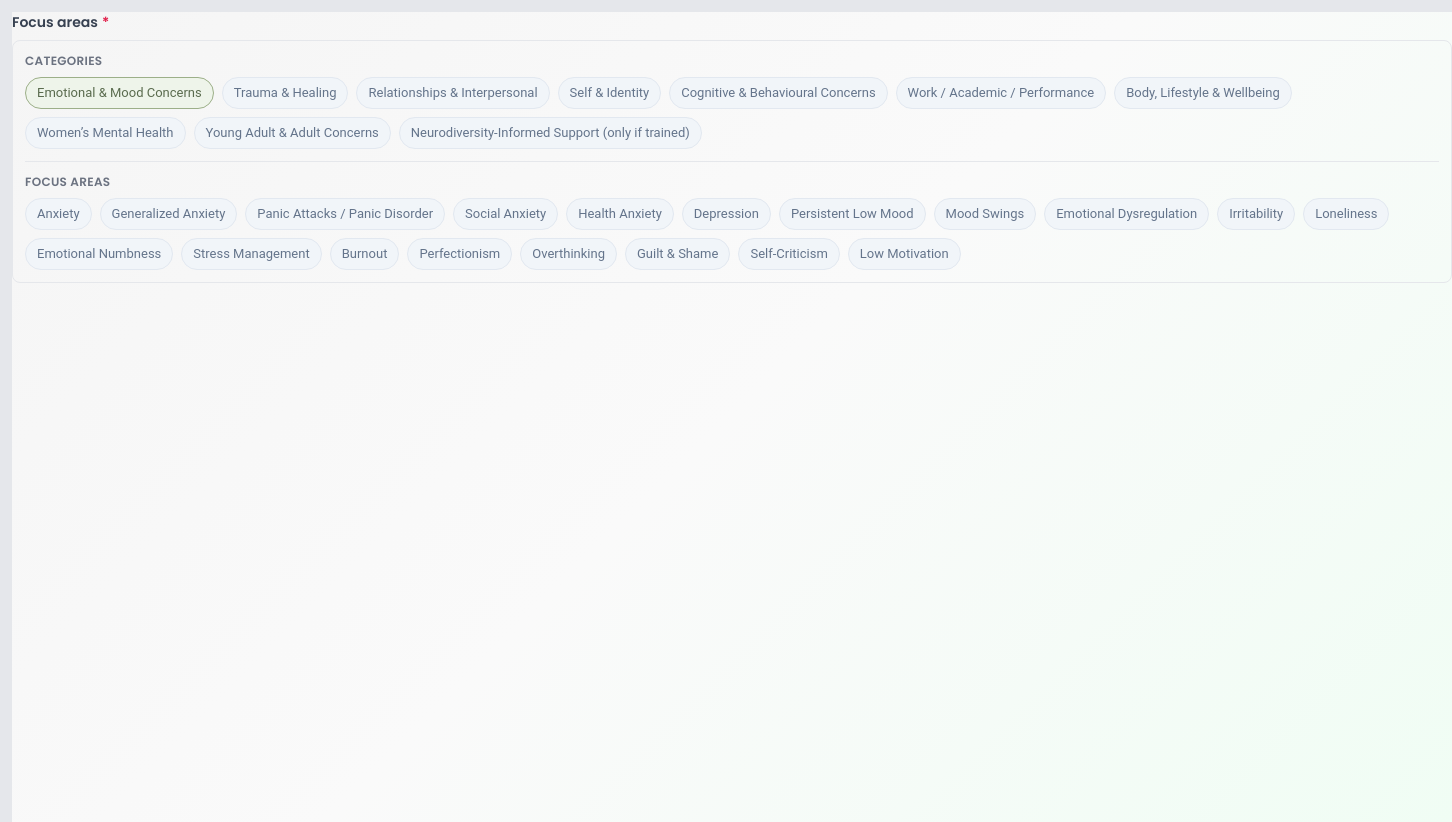
Test case: FocusAreasPicker › keeps selected options from category A visible after switching to category B
This screenshot has width=1452, height=822.
Note: Select two options in category A (Emotional & Mood Concerns).
What coordinates should you click on to do the following:
click the button "Anxiety"
I would click on:
 (58, 214)
Its box is [25,198,92,230].
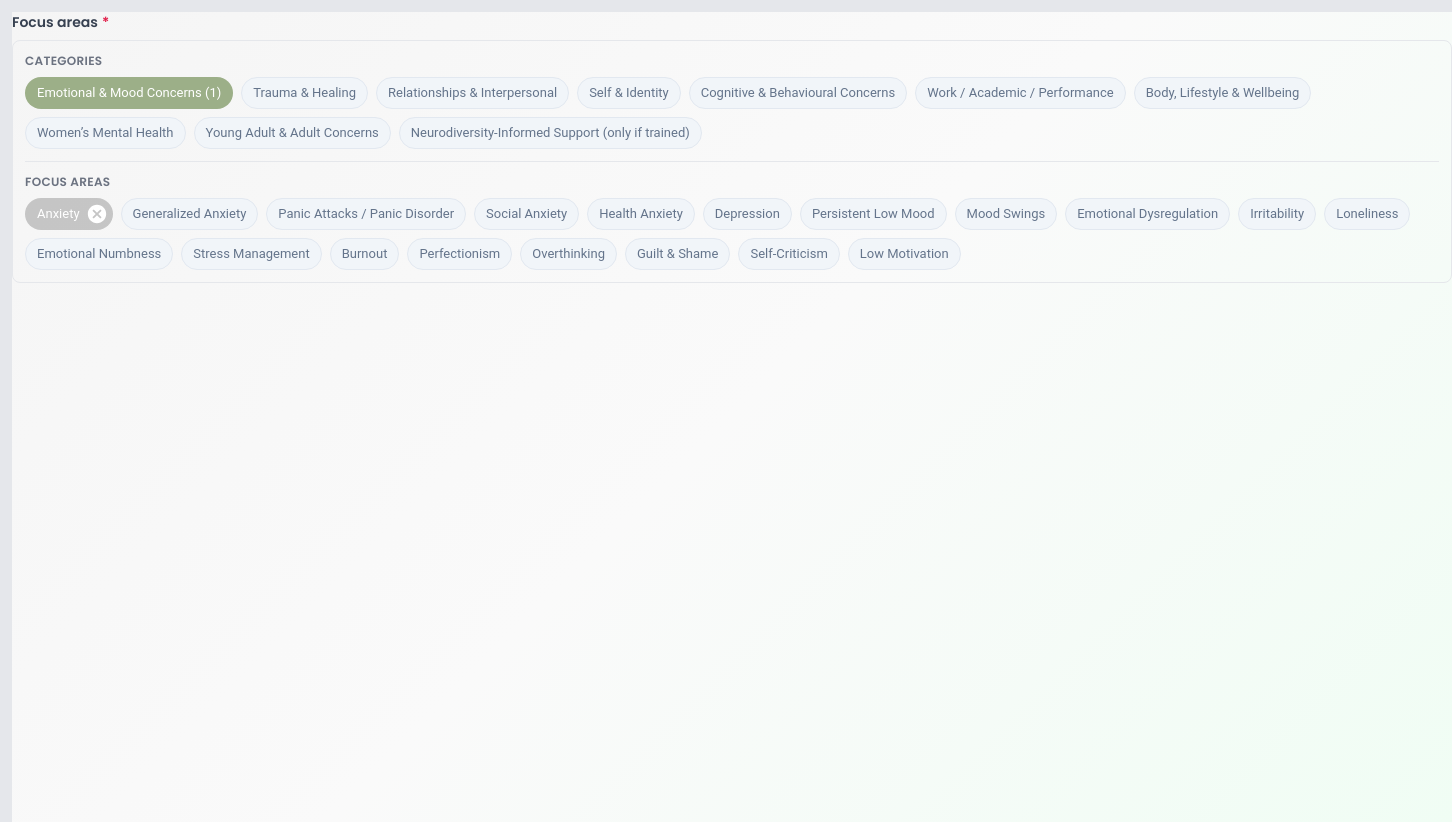
What coordinates should you click on to do the following:
click the button "Mood Swings"
I would click on:
 (1006, 214)
Its box is [955,198,1057,230].
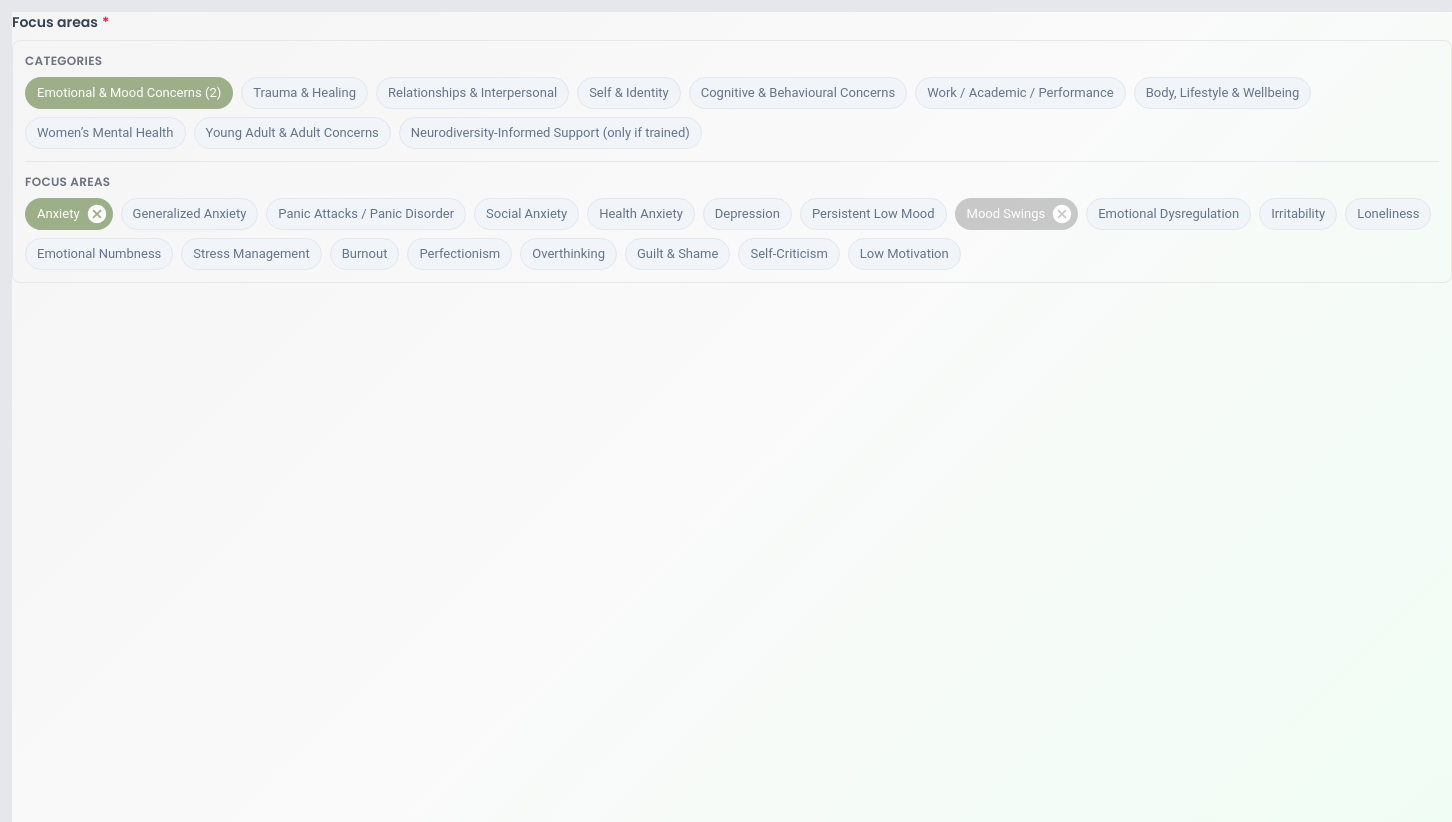
Note: Switch the active category to B (Relationships & Interpersonal).
What coordinates should you click on to do the following:
click the button "Relationships & Interpersonal"
I would click on:
 (473, 93)
Its box is [376,77,569,109].
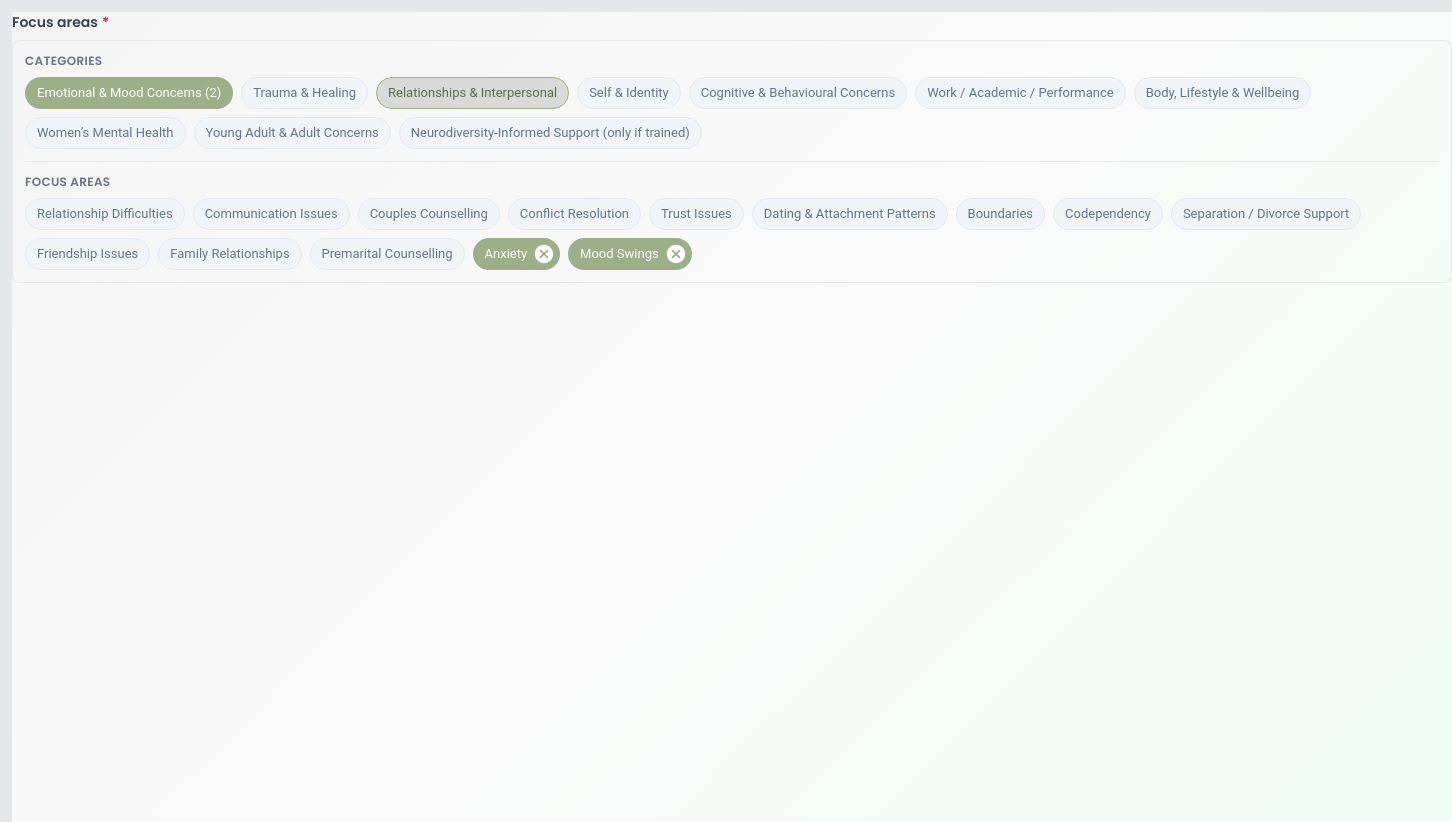
Now the button "Boundaries" is shown, box [956,198,1045,230]
Now the button "Depression" is gone
Now the button "Loneliness" is gone
